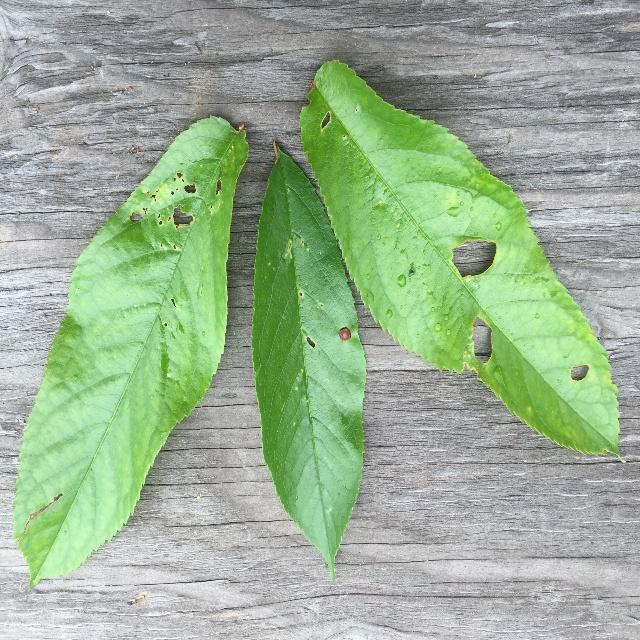shot_hole: (277, 67, 640, 471), (0, 128, 363, 532)
